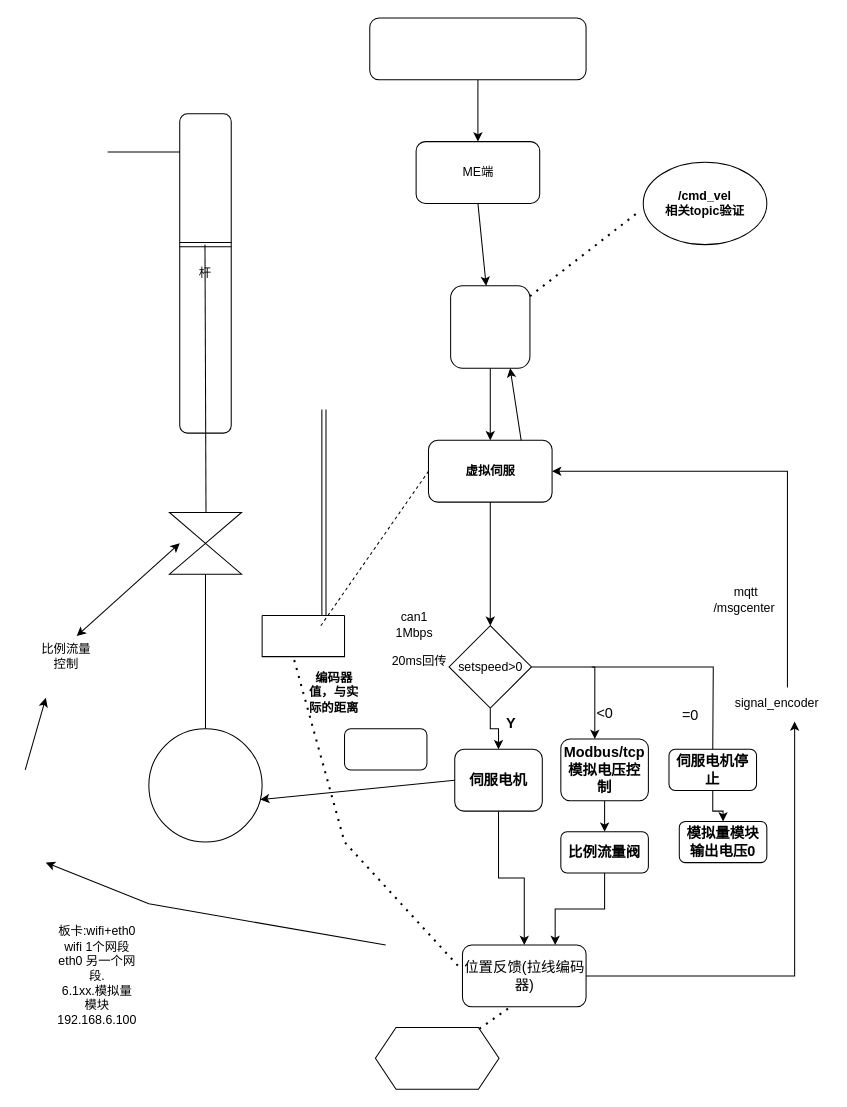
Some shapes in this 847 by 1107 pixel diagram are drawn without their labels. The centre of each missing label's shape, as x and y in pixels:
cansend 配置相关模式和数据输出: the point at 385,749
LiftDriver: the point at 490,326
tools/send_command.py 发送json数据，/wcs_server/ topic: the point at 477,48
外部发送topic验证: the point at 436,1057
拉线编码器: the point at 303,635
油缸: the point at 205,785
